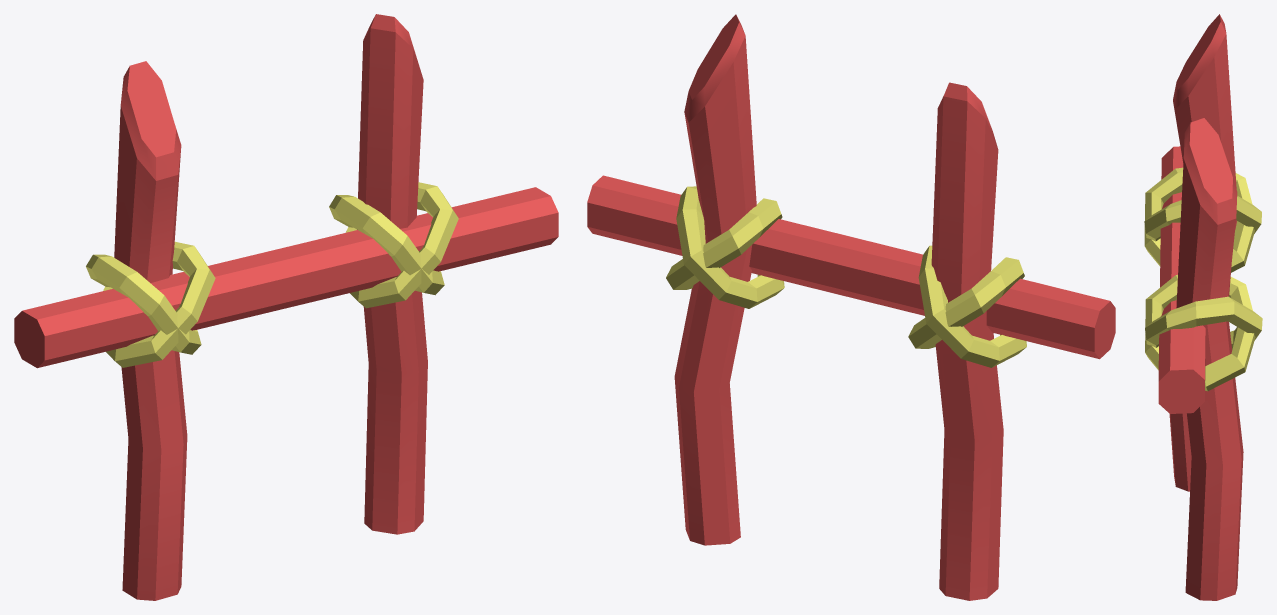
The model's file is MOD_Fence_low.fbx.
3 renders of one model, left to right at view 1: azimuth 30°, elevation 25°; view 2: azimuth 150°, elevation 25°; view 3: azimuth 270°, elevation 25°, orthographic. The views are drawn at different scales.
Visible parts, largest first — view 1: Fencewood_low, touw_low; view 2: Fencewood_low, touw_low; view 3: Fencewood_low, touw_low.
Part boxes in pixels (x1,y1,x2,y2): Fencewood_low: (14, 14, 558, 600); touw_low: (86, 182, 458, 367); Fencewood_low: (587, 14, 1115, 600); touw_low: (666, 186, 1026, 367); Fencewood_low: (1158, 14, 1243, 600); touw_low: (1144, 167, 1262, 391).
Size of the model in its own units: 0.9243 by 0.8834 by 0.2047.
